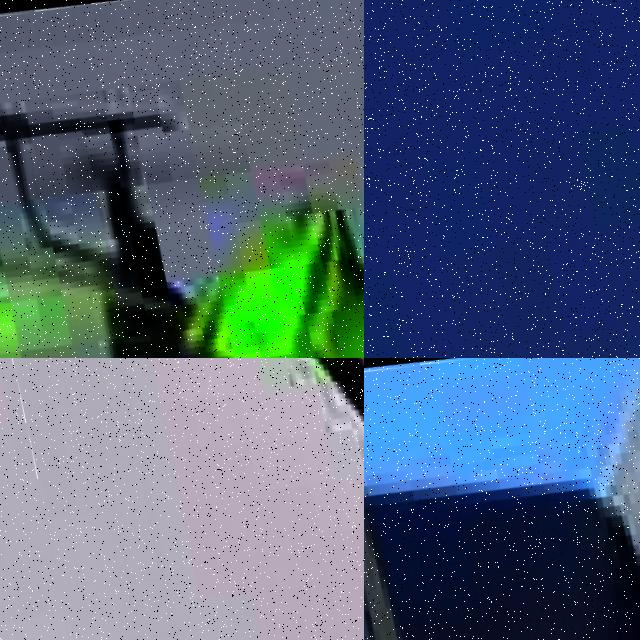0: (0, 0, 364, 358), (10, 358, 364, 640)
drone: (364, 358, 640, 640)
